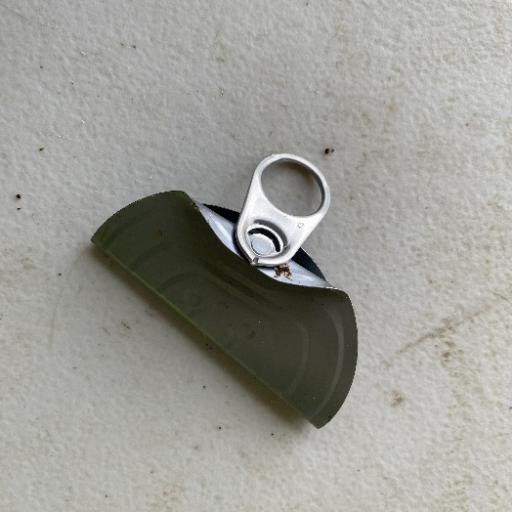Metal: (88, 150, 361, 431)
